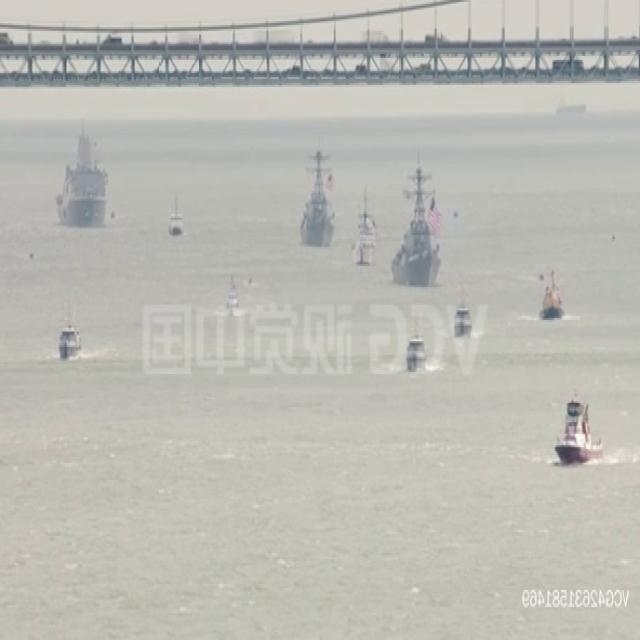houseboat: (558, 394, 603, 462), (351, 194, 380, 266), (542, 266, 565, 319), (405, 326, 428, 372), (452, 288, 473, 335), (168, 192, 185, 235), (225, 276, 239, 316)
navalvessels: (392, 153, 445, 283), (56, 121, 110, 218), (300, 137, 336, 240)
